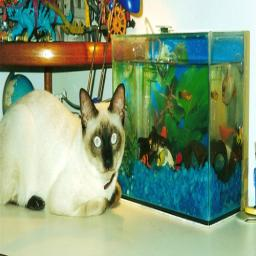catnose: (104, 157, 113, 170)
